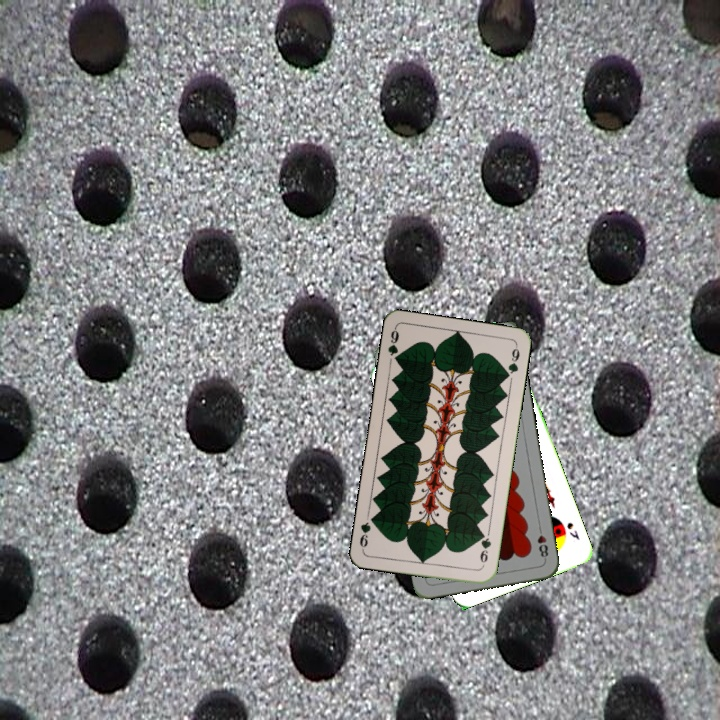G9: (384, 324, 402, 366), (476, 529, 493, 569)
H8: (533, 522, 551, 563)
SK: (563, 518, 582, 543)
